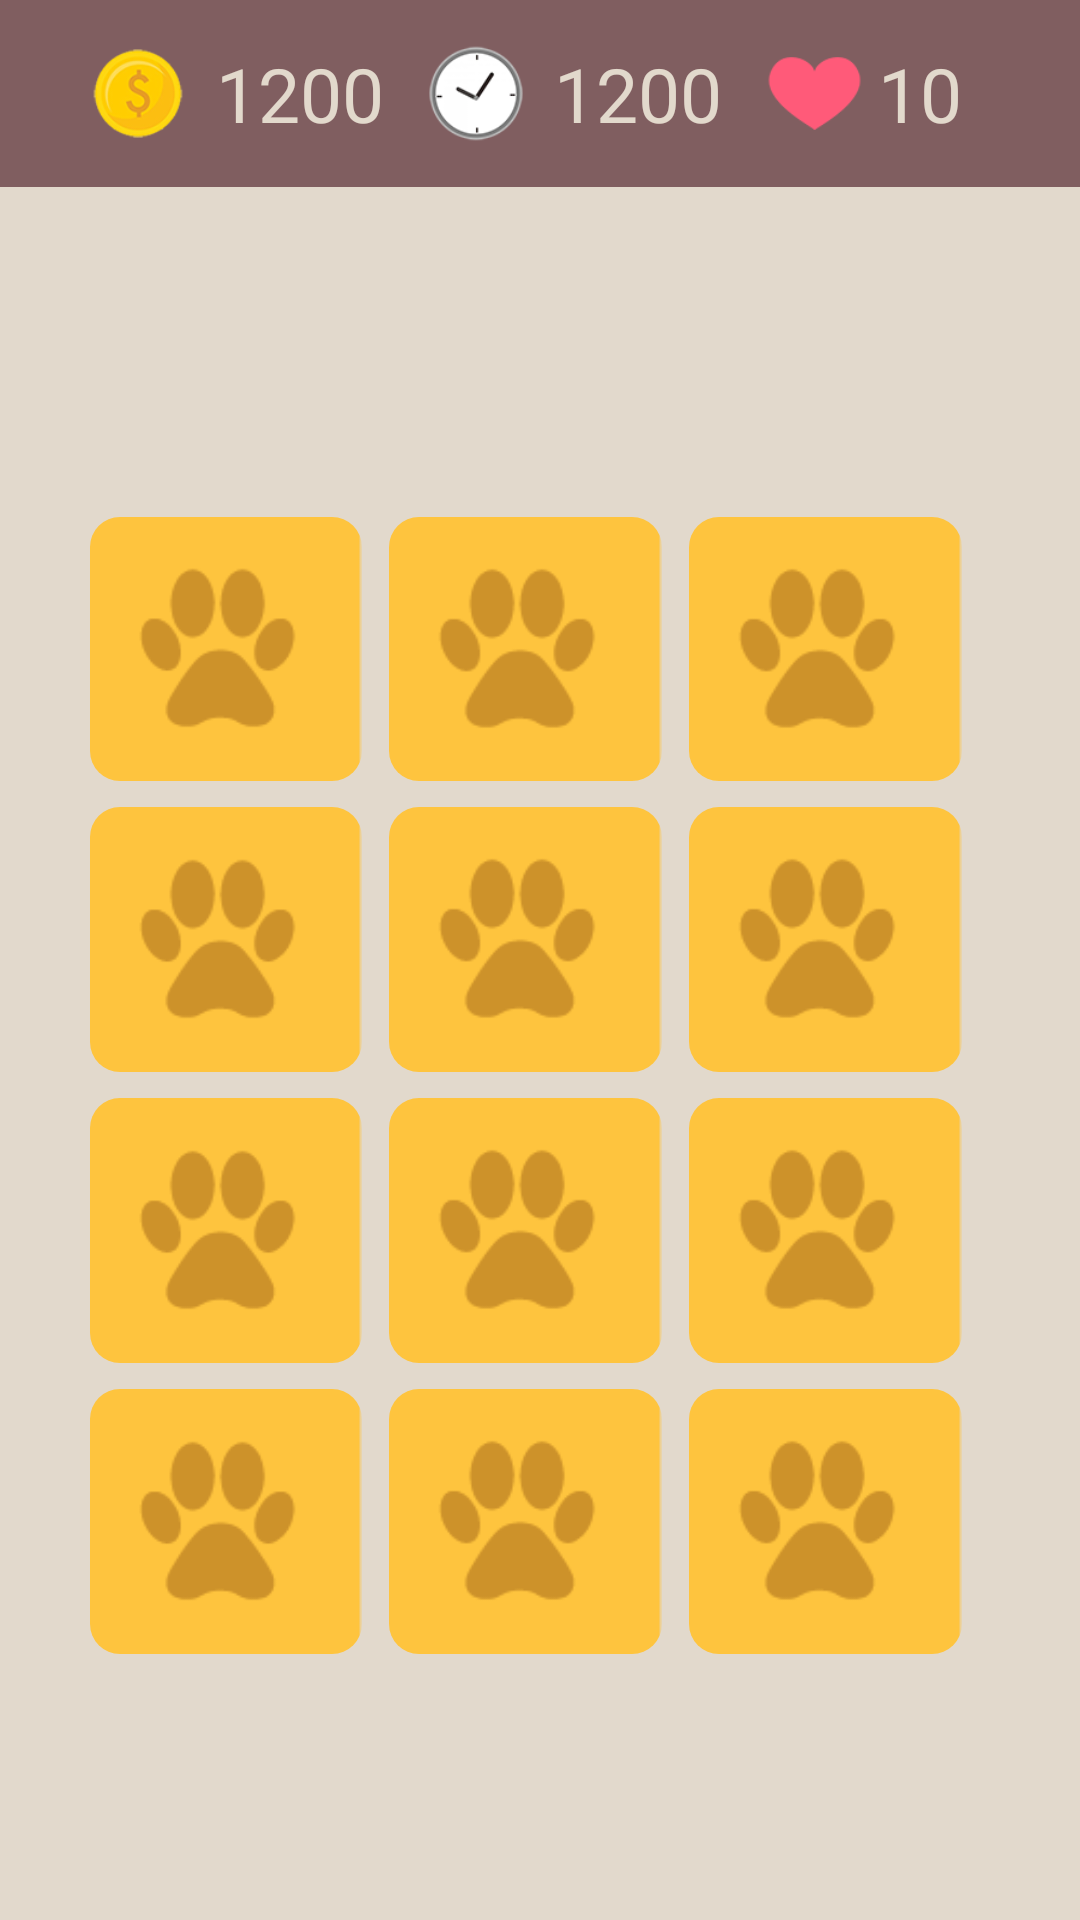

Icon click points for this 1080×1920 phone screenshot, format (x=x, y=y):
clock: (x=476, y=93)
coin: (x=138, y=93)
lives: (x=814, y=93)
